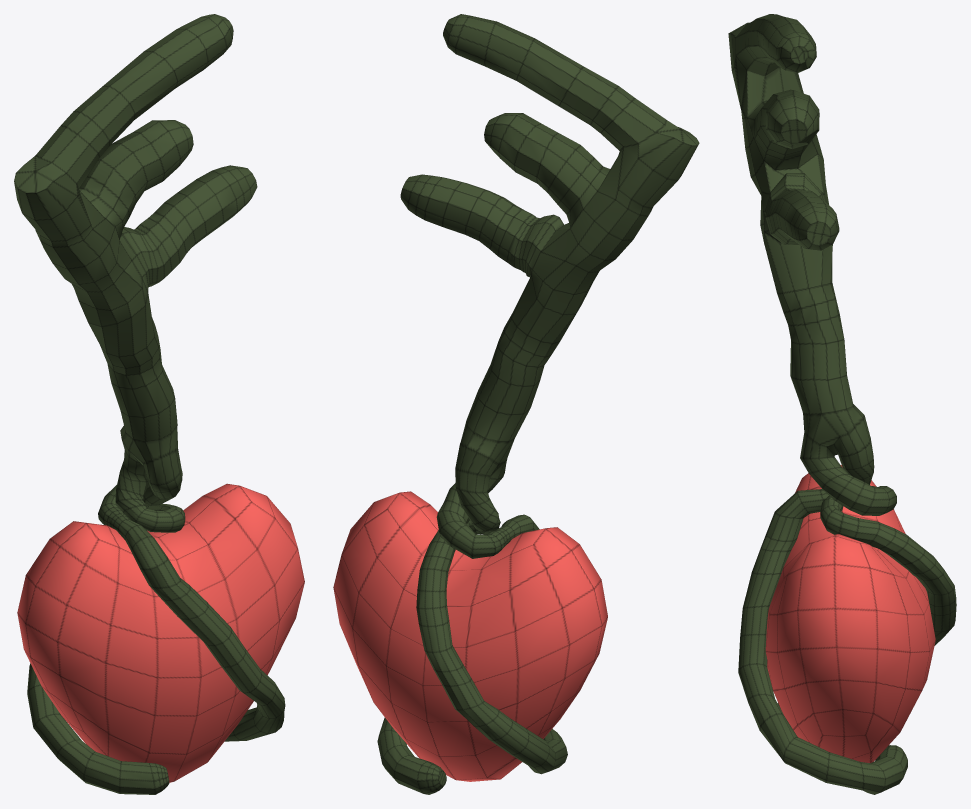
File: KeyHeartModel4.fbx
3 renders of one model, left to right at view 1: azimuth 30°, elevation 25°; view 2: azimuth 150°, elevation 25°; view 3: azimuth 270°, elevation 25°, orthographic. The views are drawn at different scales.
Visible parts, largest first — view 1: pCylinder2; view 2: pCylinder2; view 3: pCylinder2.
Boxes of the visible parts, box(x1,y1,x2,y2) form: pCylinder2: box(14, 14, 304, 794); pCylinder2: box(333, 14, 699, 794); pCylinder2: box(728, 14, 956, 794).
Size of the model in its own units: 2.21 by 5.02 by 1.38.
1 material, 1 textured.
